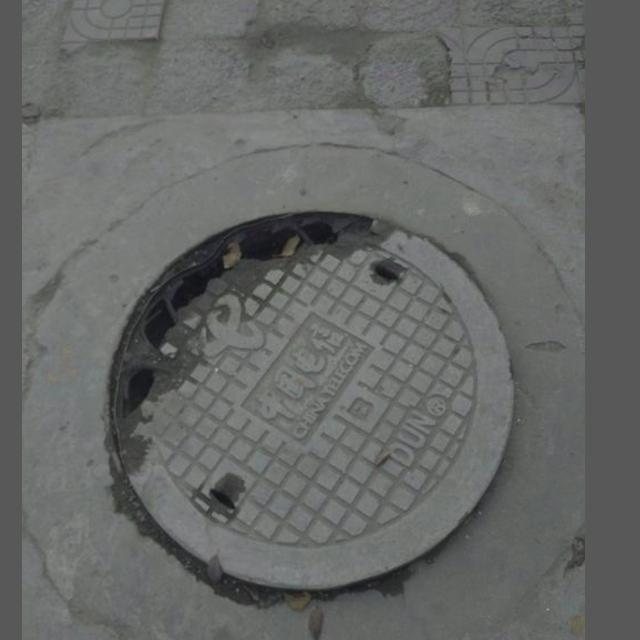broke: (37, 132, 555, 640)
